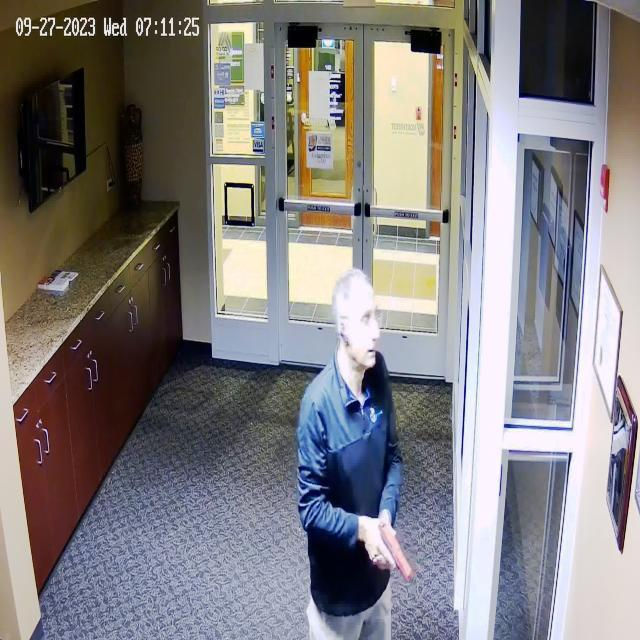Gun: (370, 504, 422, 592)
